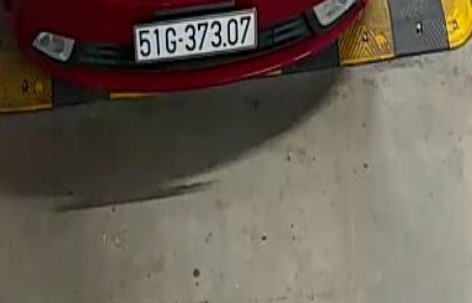plate: (122, 7, 259, 65)
